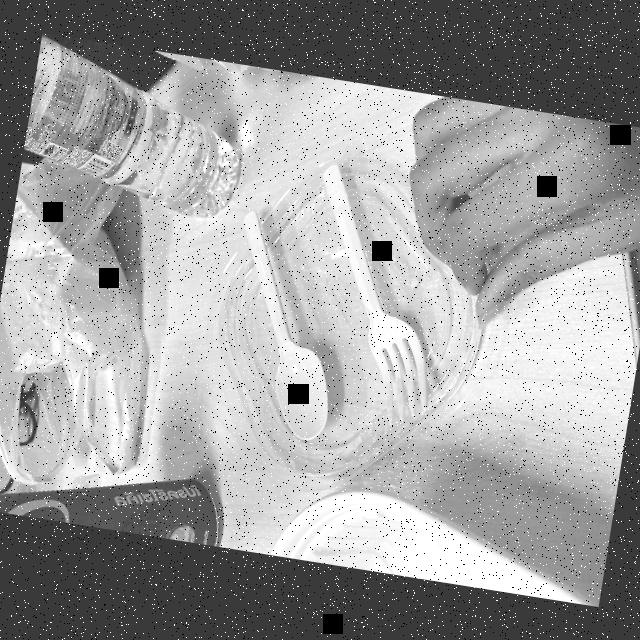plastic_spoon: (280, 144, 464, 432), (208, 202, 357, 450)
